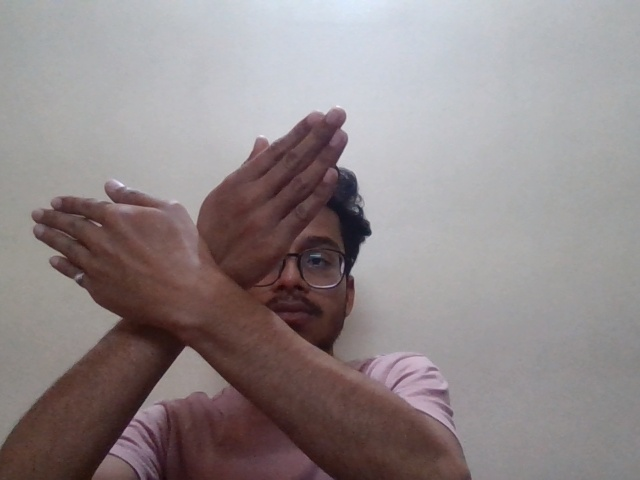feel: (29, 88, 361, 332)
